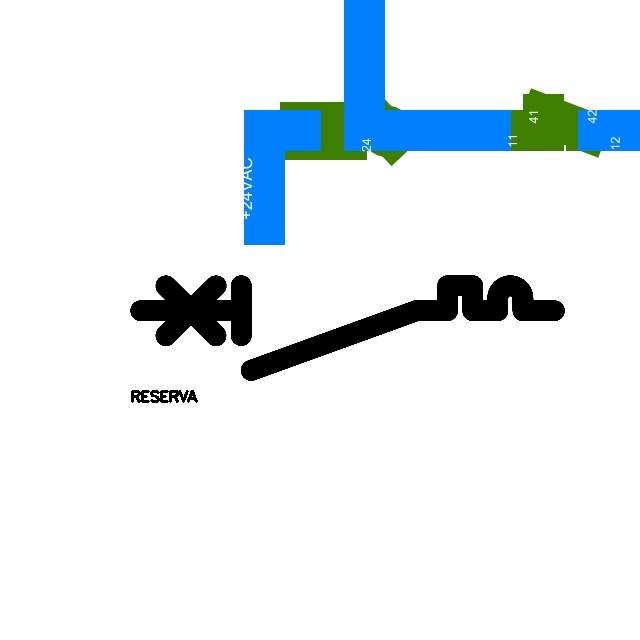interruptor_termomagnetico: (130, 275, 565, 381)
